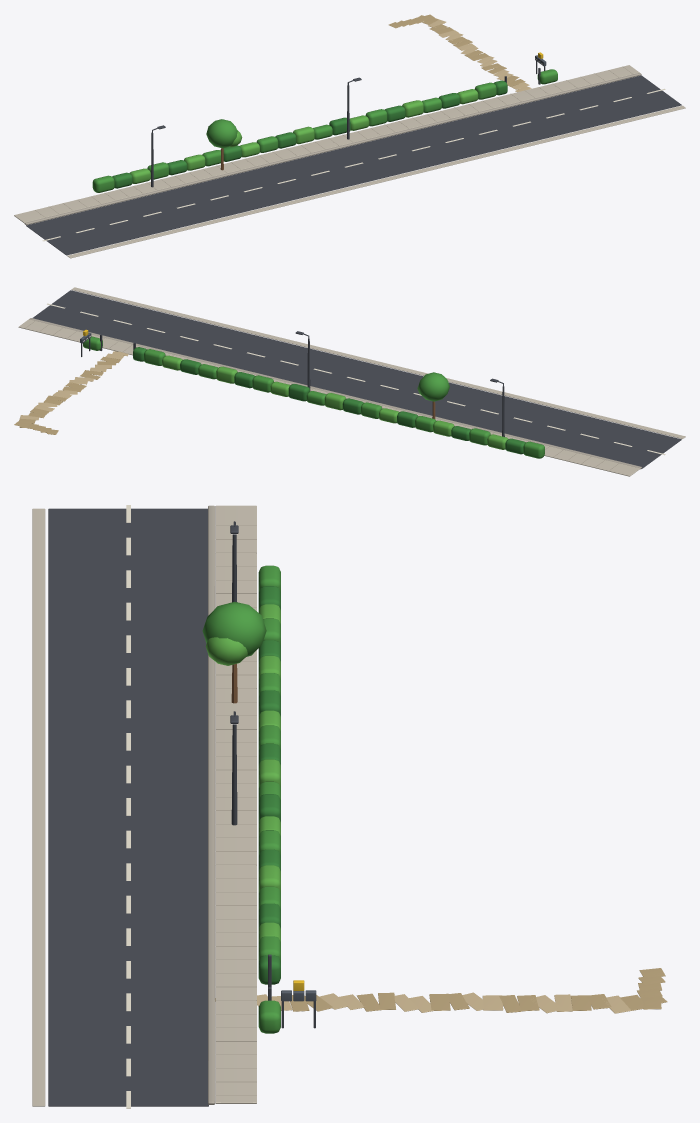
File: welt_strasse.glb
3 views of the same model, one above another, from view 1: azimuth 30°, elevation 25°; view 2: azimuth 150°, elevation 25°; view 3: azimuth 270°, elevation 25° (orthographic). The views are drawn at different scales.
Visible parts, largest first — view 1: welt_strasse; view 2: welt_strasse; view 3: welt_strasse.
Part boxes in pixels (left/top/right/bottom): welt_strasse: left=14, top=14, right=685, bottom=258; welt_strasse: left=14, top=287, right=685, bottom=476; welt_strasse: left=32, top=505, right=667, bottom=1108.
Size of the model in its own units: 44.5 by 4.12 by 19.79.
